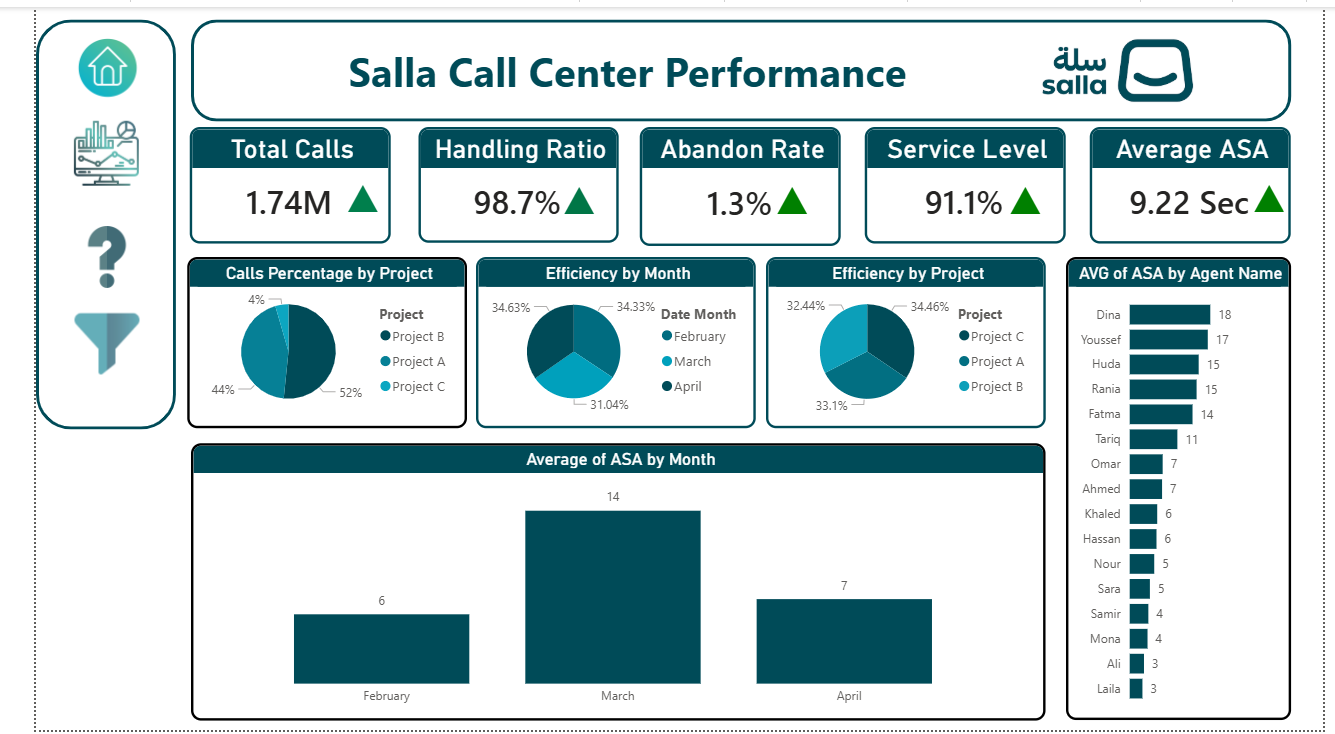

This screenshot's page, from the dashboard's own definition file:
{"tool":"powerbi","page":{"name":"Overview","canvas":[1280,720],"ordinal":1},"visuals":[{"type":"shape","box":[0,12.4,139.3,408],"z":0},{"type":"shape","box":[153.7,12.3,1095,101.5],"z":1000},{"type":"cardVisual","title":"Handling Ratio","fields":{"Data":["Salla Project.Answer Rate %"]},"box":[380.1,119.4,199,115.3],"z":2000},{"type":"cardVisual","title":"Abandon Rate","fields":{"Data":["Salla Project.Abandon Rate %"]},"box":[601,119.4,200.3,118],"z":3000},{"type":"cardVisual","title":"Total Calls","fields":{"Data":["Salla Project.Total Calls"]},"box":[153,119.4,199.8,115.8],"z":4000},{"type":"cardVisual","title":"Average ASA","fields":{"Data":["Avg(Salla Project.ASA)"]},"box":[1048.8,119.4,199.8,115.8],"z":5000},{"type":"pieChart","title":"Calls Percentage by Project","fields":{"Category":["Salla Project.Project"],"Y":["Sum(Salla Project.Calls Offered)"]},"box":[150.9,248.4,278.6,170.2],"z":6000},{"type":"actionButton","box":[235.7,12.4,707,102],"z":7000},{"type":"image","box":[942.6,12.4,267.4,102],"z":8000},{"type":"cardVisual","title":"Service Level","fields":{"Data":["Salla Project.Service Level"]},"box":[824.7,119.4,199.8,115.8],"z":9000},{"type":"columnChart","fields":{"Y":["Avg(Salla Project.ASA)"],"Category":["Calender.Date.Variation.Date Hierarchy.Month"]},"box":[153.7,433.6,850.8,275.8],"z":10000},{"type":"pieChart","fields":{"Category":["Salla Project.Project"],"Y":["Salla Project.Efficiency"]},"box":[725.9,248.4,278.6,170.2],"z":11000},{"type":"pieChart","fields":{"Y":["Salla Project.Efficiency"],"Category":["Calender.Date.Variation.Date Hierarchy.Month"]},"box":[437.7,248.4,278.6,170.2],"z":12000},{"type":"barChart","title":"AVG of ASA by Agent Name","fields":{"Category":["Salla Project.Agent Name"],"Y":["Avg(Salla Project.ASA)"]},"box":[1025,248.4,223.7,461.1],"z":13000},{"type":"actionButton","box":[12.3,24.7,118,71.4],"z":14000},{"type":"actionButton","box":[19.9,108.2,99.5,74.6],"z":15000},{"type":"actionButton","box":[21.1,291.1,99.5,84.6],"z":16000},{"type":"actionButton","box":[28.6,214,84.6,69.7],"z":22000},{"type":"cardVisual","fields":{"Data":["Calender.AVG ASA Arrow"]},"box":[1181.8,145.5,89.6,84.6],"z":23000},{"type":"cardVisual","fields":{"Data":["Calender.Arrow Handle"]},"box":[480.2,148,120.7,85.8],"z":24000},{"type":"cardVisual","fields":{"Data":["Calender.Arrow"]},"box":[279.9,145.5,90.8,84.6],"z":25000},{"type":"cardVisual","fields":{"Data":["Calender.Arrow Abandon"]},"box":[692.9,148,119.4,84.6],"z":26000},{"type":"cardVisual","fields":{"Data":["Calender.Arrow Service"]},"box":[924.3,148,120,85],"z":27000}]}

Visuals, with their boxes in screenshot pixels (x1, y1, x2, y2), scaled from the page's 1280x720 canvas onto the 1335x734 screenshot:
shape: (x1=0, y1=13, x2=145, y2=429)
shape: (x1=160, y1=13, x2=1302, y2=116)
"Handling Ratio" cardVisual: (x1=396, y1=122, x2=604, y2=239)
"Abandon Rate" cardVisual: (x1=627, y1=122, x2=836, y2=242)
"Total Calls" cardVisual: (x1=160, y1=122, x2=368, y2=240)
"Average ASA" cardVisual: (x1=1094, y1=122, x2=1302, y2=240)
"Calls Percentage by Project" pieChart: (x1=157, y1=253, x2=448, y2=427)
actionButton: (x1=246, y1=13, x2=983, y2=117)
image: (x1=983, y1=13, x2=1262, y2=117)
"Service Level" cardVisual: (x1=860, y1=122, x2=1069, y2=240)
columnChart - Avg(Salla Project.ASA) x Calender.Date.Variation.Date Hierarchy.Month: (x1=160, y1=442, x2=1048, y2=723)
pieChart - Salla Project.Project x Salla Project.Efficiency: (x1=757, y1=253, x2=1048, y2=427)
pieChart - Salla Project.Efficiency x Calender.Date.Variation.Date Hierarchy.Month: (x1=457, y1=253, x2=747, y2=427)
"AVG of ASA by Agent Name" barChart: (x1=1069, y1=253, x2=1302, y2=723)
actionButton: (x1=13, y1=25, x2=136, y2=98)
actionButton: (x1=21, y1=110, x2=125, y2=186)
actionButton: (x1=22, y1=297, x2=126, y2=383)
actionButton: (x1=30, y1=218, x2=118, y2=289)
cardVisual - Calender.AVG ASA Arrow: (x1=1233, y1=148, x2=1326, y2=235)
cardVisual - Calender.Arrow Handle: (x1=501, y1=151, x2=627, y2=238)
cardVisual - Calender.Arrow: (x1=292, y1=148, x2=387, y2=235)
cardVisual - Calender.Arrow Abandon: (x1=723, y1=151, x2=847, y2=237)
cardVisual - Calender.Arrow Service: (x1=964, y1=151, x2=1089, y2=238)
